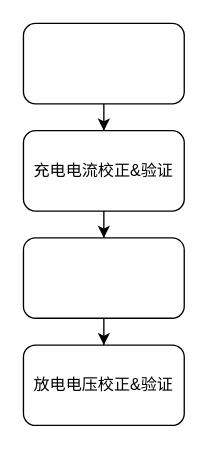
Some shapes in this 208 by 449 pixel diagram are drawn without their labels. Each missing label, with the centre of its shape:
充电电压校正&验证: point 103,63
放电电流校正&验证: point 103,277
